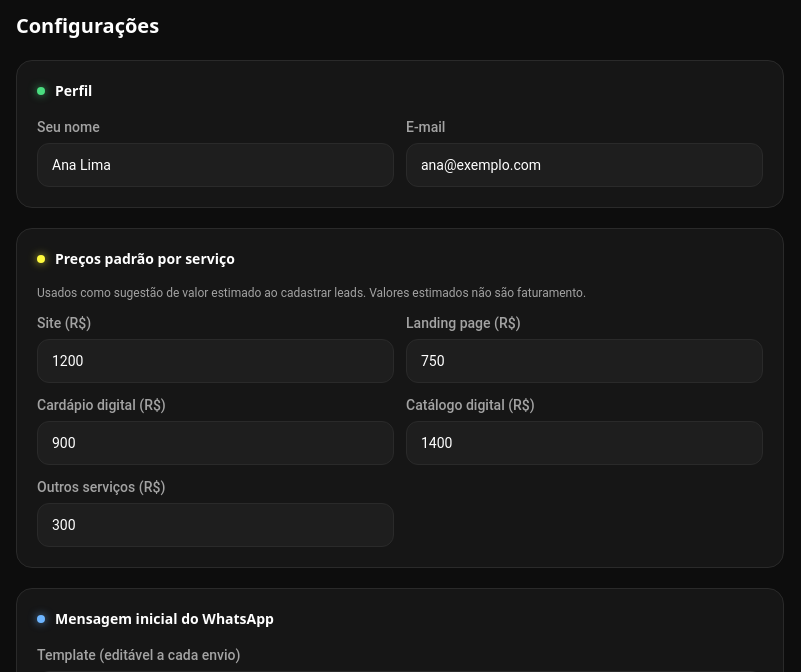
Test: SettingsPage preços, template e salvamento › normaliza preço negativo para zero e mantém atributos de valor não negativo
This screenshot has width=801, height=672.
Expected: the heading "Configurações" is shown, [16,12,159,39]
Replace the text in the number field labelled "Site (R$)" with "-80" at (216, 361), box [37,339,394,383]
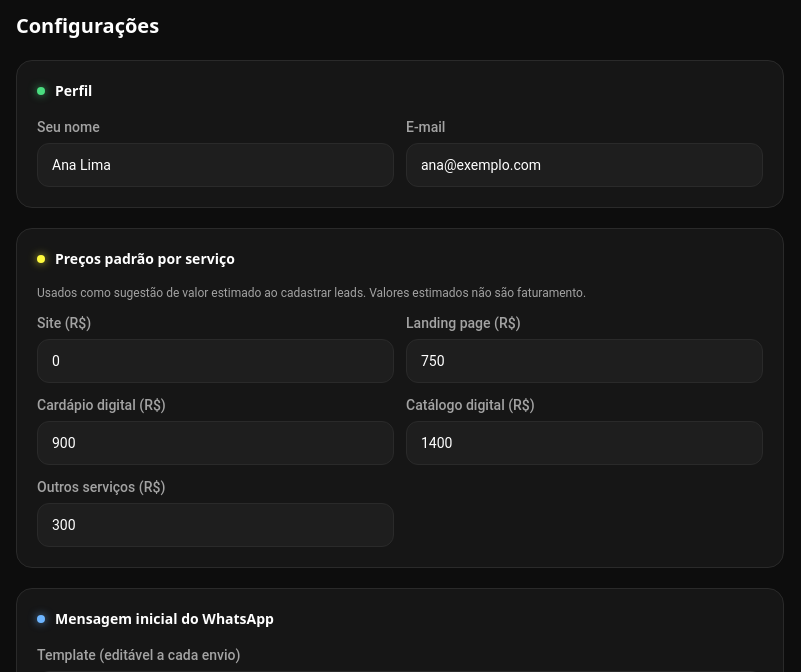
Expected: the number field labelled "Site (R$)" holds "0"
Replace the text in the number field labelled "Site (R$)" with "249.90" at (216, 361), box [37,339,394,383]
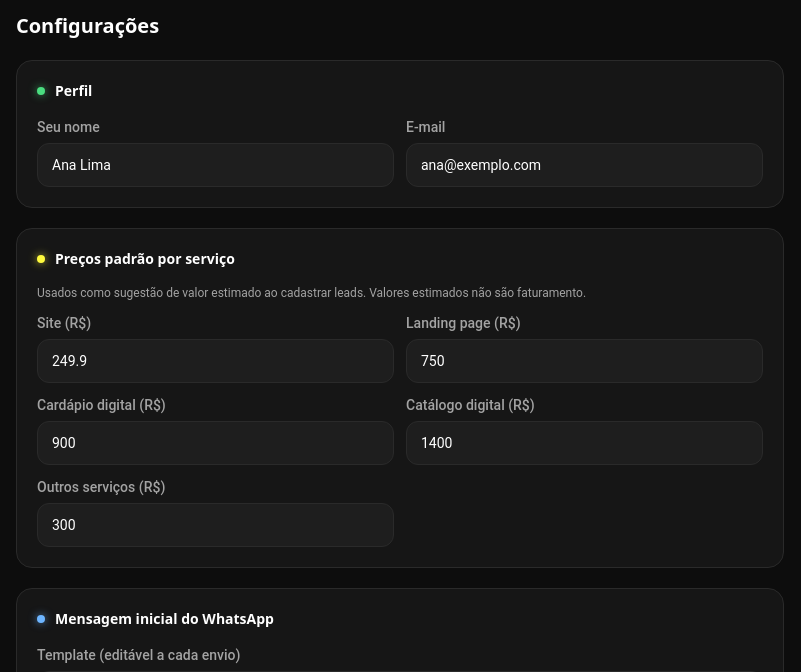
Expected: the number field labelled "Site (R$)" holds "249.9", [37,339,394,383]
